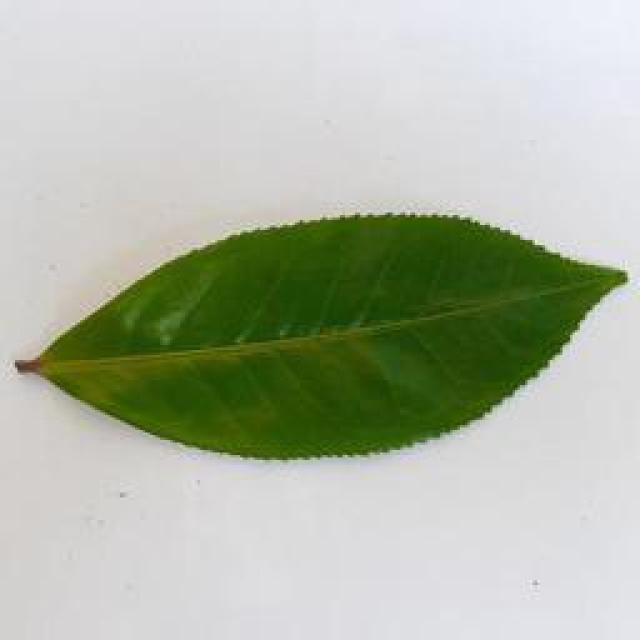Healthy: (14, 208, 633, 466)
